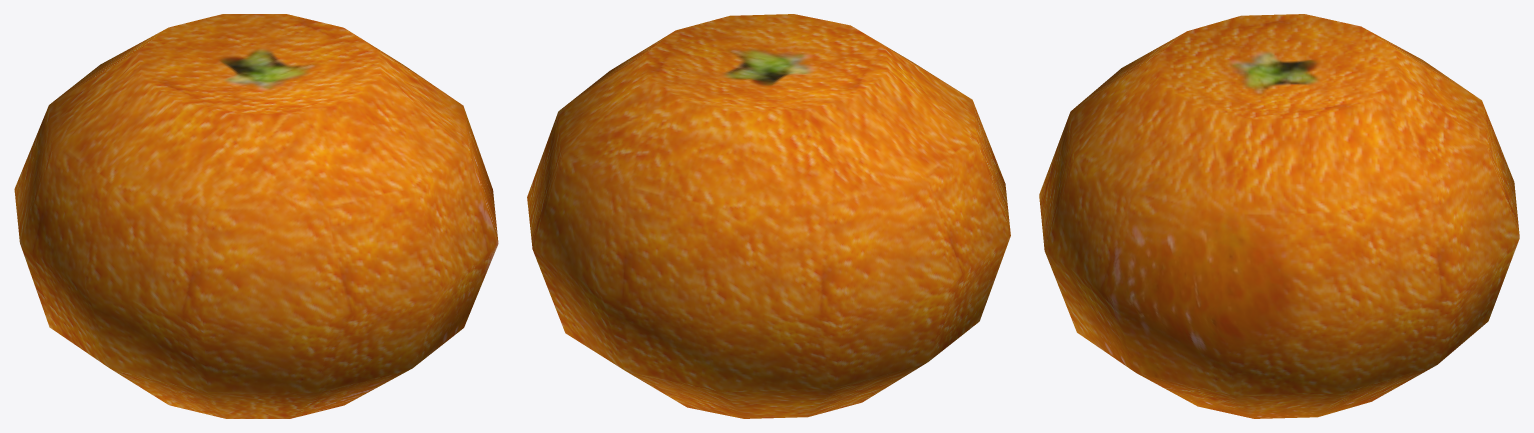
Rendered from orange.obj.
The picture shows the model from 3 angles, left to right: view 1: azimuth 30°, elevation 25°; view 2: azimuth 150°, elevation 25°; view 3: azimuth 270°, elevation 25°; orthographic projection.
Visible parts, largest first — view 1: Mandarin; view 2: Mandarin; view 3: Mandarin.
Boxes of the visible parts, x1=… form: Mandarin: x1=14, y1=14, x2=498, y2=418; Mandarin: x1=527, y1=14, x2=1010, y2=418; Mandarin: x1=1039, y1=14, x2=1519, y2=418.
Bounding box in the file's own units: 58.55 × 41.15 × 58.56.
Materials: 1 (1 with a texture image).
